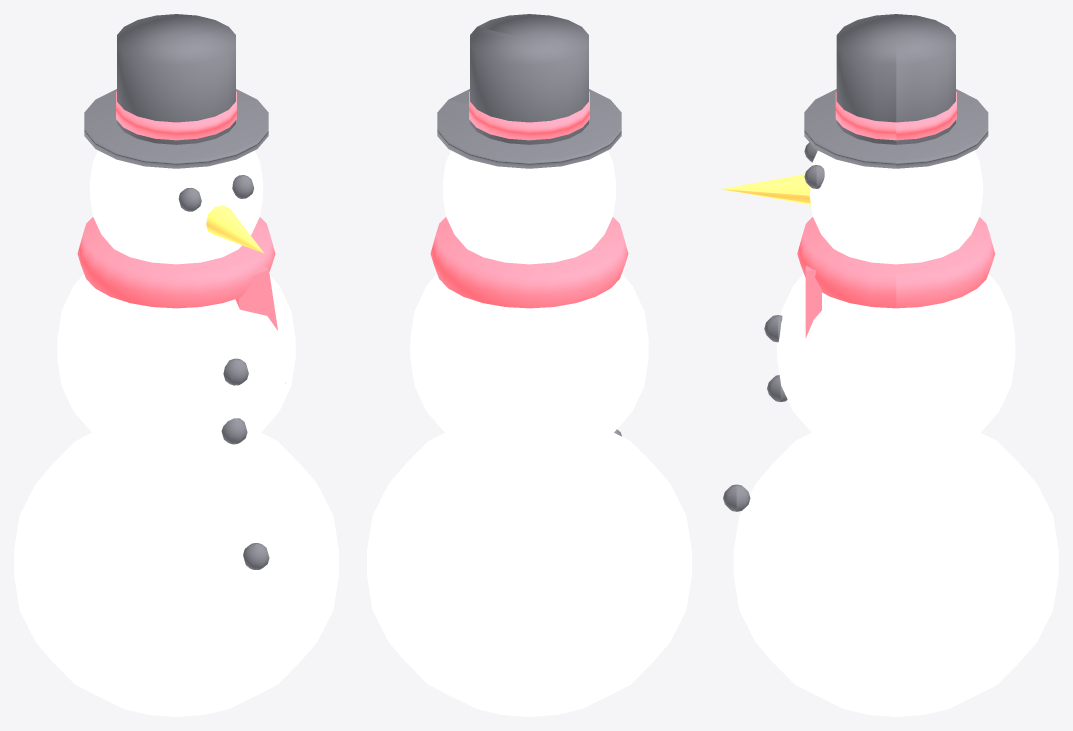
File: snowman-night.glb
3 views of the same model, side by side, from view 1: azimuth 30°, elevation 25°; view 2: azimuth 150°, elevation 25°; view 3: azimuth 270°, elevation 25° (orthographic).
Bounding box in the file's own units: 0.6 × 1.33 × 0.6154.
